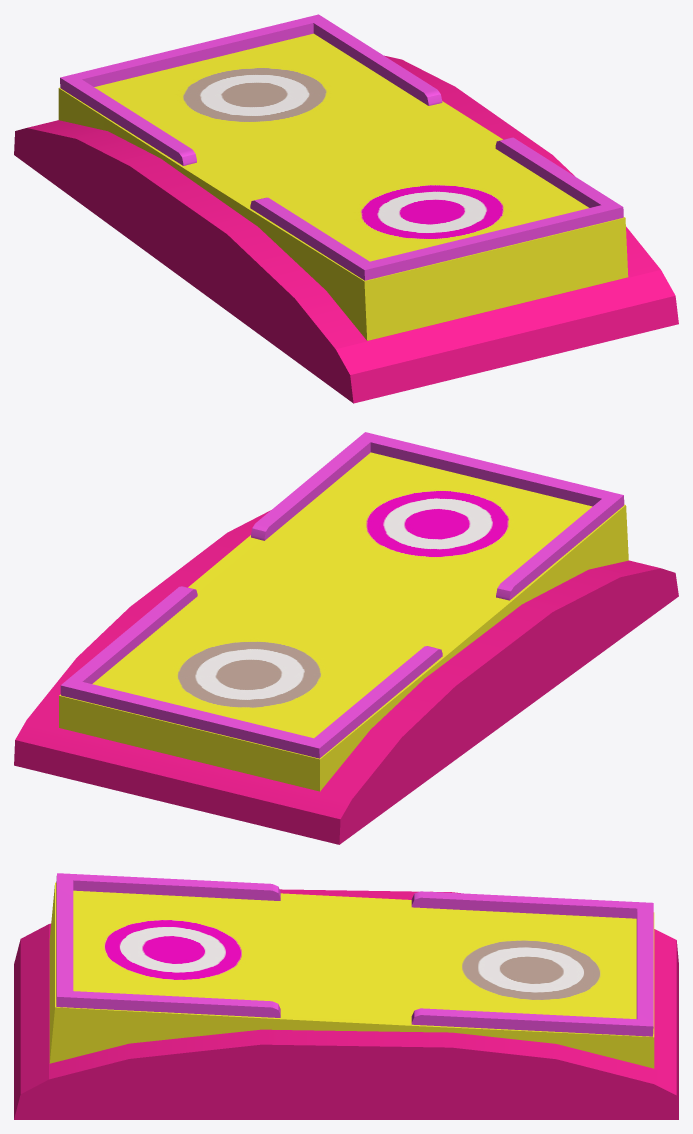
Rendered from OBS0110003.fbx.
3 views of the same model, one above another, from view 1: azimuth 30°, elevation 25°; view 2: azimuth 150°, elevation 25°; view 3: azimuth 270°, elevation 25° (orthographic). The views are drawn at different scales.
Visible parts, largest first — view 1: smOBS0110003; view 2: smOBS0110003; view 3: smOBS0110003.
Boxes of the visible parts, x1,y1,x2,y2 form: smOBS0110003: (14,14,678,403); smOBS0110003: (14,432,678,844); smOBS0110003: (14,873,678,1119).
Bounding box in the file's own units: 301 × 96.71 × 545.
1 material, 1 textured.
